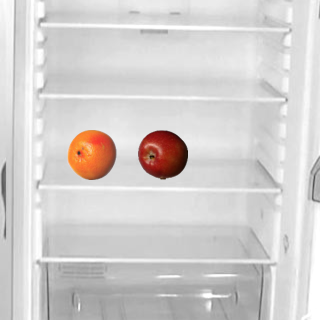Apple Braeburn: (137, 129, 187, 179)
Grapefruit Pink: (66, 129, 116, 179)
